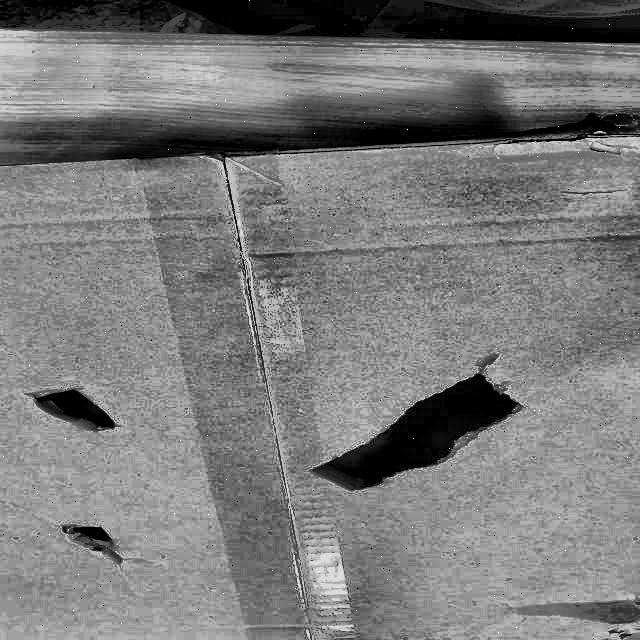box: (1, 102, 640, 640)
hole: (315, 385, 529, 499), (16, 388, 120, 434), (48, 521, 128, 557)
